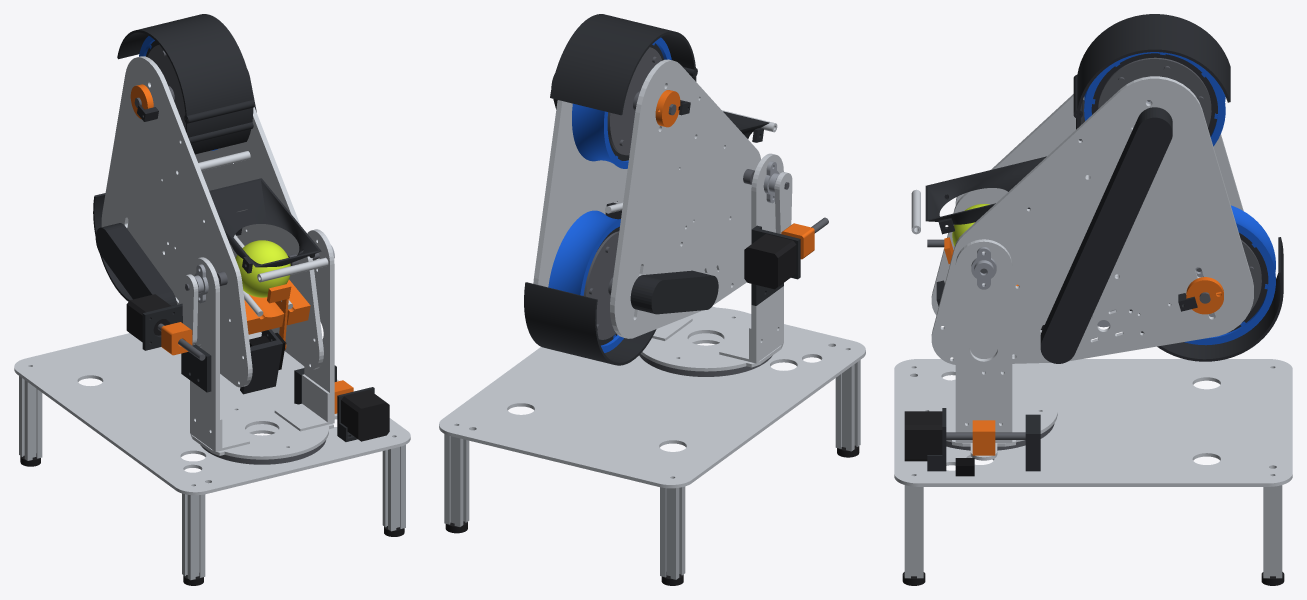
File: mvp.glb
3 renders of one model, left to right at view 1: azimuth 30°, elevation 25°; view 2: azimuth 150°, elevation 25°; view 3: azimuth 270°, elevation 25°, orthographic. The views are drawn at different scales.
Visible parts, largest first — view 1: chapa_base_lancador__1, placa_lateral__1, carenagem_roda_sup__1, placa_lateral__2, funil_cabeca__1, plataforma__1, garfo__1, tampa_correia_inf__1, garfo__2, motor_giro__1, suporte_motor_tilt__1, poste_base__1 (+15 smaller); view 2: chapa_base_lancador__1, placa_lateral__1, carenagem_roda_sup__1, placa_lateral__2, carenagem_roda_inf__1, plataforma__1, banda_roda__2, garfo__1, tampa_correia_inf__1, motor_tilt__1, poste_base__2, poste_base__4 (+11 smaller); view 3: placa_lateral__2, chapa_base_lancador__1, tampa_correia_sup__1, garfo__2, carenagem_roda_sup__1, placa_lateral__1, plataforma__1, funil_cabeca__1, carenagem_roda_inf__1, disco_inercia__1, banda_roda__2, motor_giro__1 (+11 smaller).
Boxes of the visible parts, x1=… form: chapa_base_lancador__1: x1=14, y1=332, x2=410, y2=495; placa_lateral__1: x1=101, y1=56, x2=252, y2=387; carenagem_roda_sup__1: x1=117, y1=14, x2=254, y2=154; placa_lateral__2: x1=195, y1=107, x2=323, y2=369; funil_cabeca__1: x1=209, y1=178, x2=321, y2=273; plataforma__1: x1=190, y1=400, x2=337, y2=459; garfo__1: x1=190, y1=257, x2=219, y2=451; tampa_correia_inf__1: x1=95, y1=223, x2=176, y2=305; garfo__2: x1=304, y1=229, x2=334, y2=423; motor_giro__1: x1=341, y1=390, x2=389, y2=441; suporte_motor_tilt__1: x1=142, y1=303, x2=211, y2=392; poste_base__1: x1=182, y1=493, x2=205, y2=580; chapa_base_lancador__1: x1=439, y1=306, x2=865, y2=488; placa_lateral__1: x1=610, y1=59, x2=760, y2=338; carenagem_roda_sup__1: x1=550, y1=14, x2=697, y2=115; placa_lateral__2: x1=533, y1=100, x2=627, y2=287; carenagem_roda_inf__1: x1=524, y1=282, x2=656, y2=365; plataforma__1: x1=640, y1=307, x2=783, y2=371; banda_roda__2: x1=548, y1=210, x2=623, y2=352; garfo__1: x1=751, y1=153, x2=783, y2=363; tampa_correia_inf__1: x1=630, y1=270, x2=718, y2=314; motor_tilt__1: x1=744, y1=234, x2=796, y2=289; poste_base__2: x1=660, y1=486, x2=685, y2=579; poste_base__4: x1=444, y1=434, x2=469, y2=526; placa_lateral__2: x1=931, y1=76, x2=1253, y2=364; chapa_base_lancador__1: x1=894, y1=359, x2=1292, y2=486; tampa_correia_sup__1: x1=1040, y1=107, x2=1172, y2=363; garfo__2: x1=955, y1=239, x2=1012, y2=442; carenagem_roda_sup__1: x1=1073, y1=14, x2=1230, y2=140; placa_lateral__1: x1=931, y1=94, x2=1243, y2=315; plataforma__1: x1=910, y1=379, x2=1057, y2=460; funil_cabeca__1: x1=925, y1=156, x2=1046, y2=234; carenagem_roda_inf__1: x1=1129, y1=237, x2=1283, y2=361; disco_inercia__1: x1=1098, y1=57, x2=1211, y2=127; banda_roda__2: x1=1184, y1=205, x2=1275, y2=345; motor_giro__1: x1=904, y1=411, x2=942, y2=461.
Size of the model in its own units: 312 by 579 by 422.
